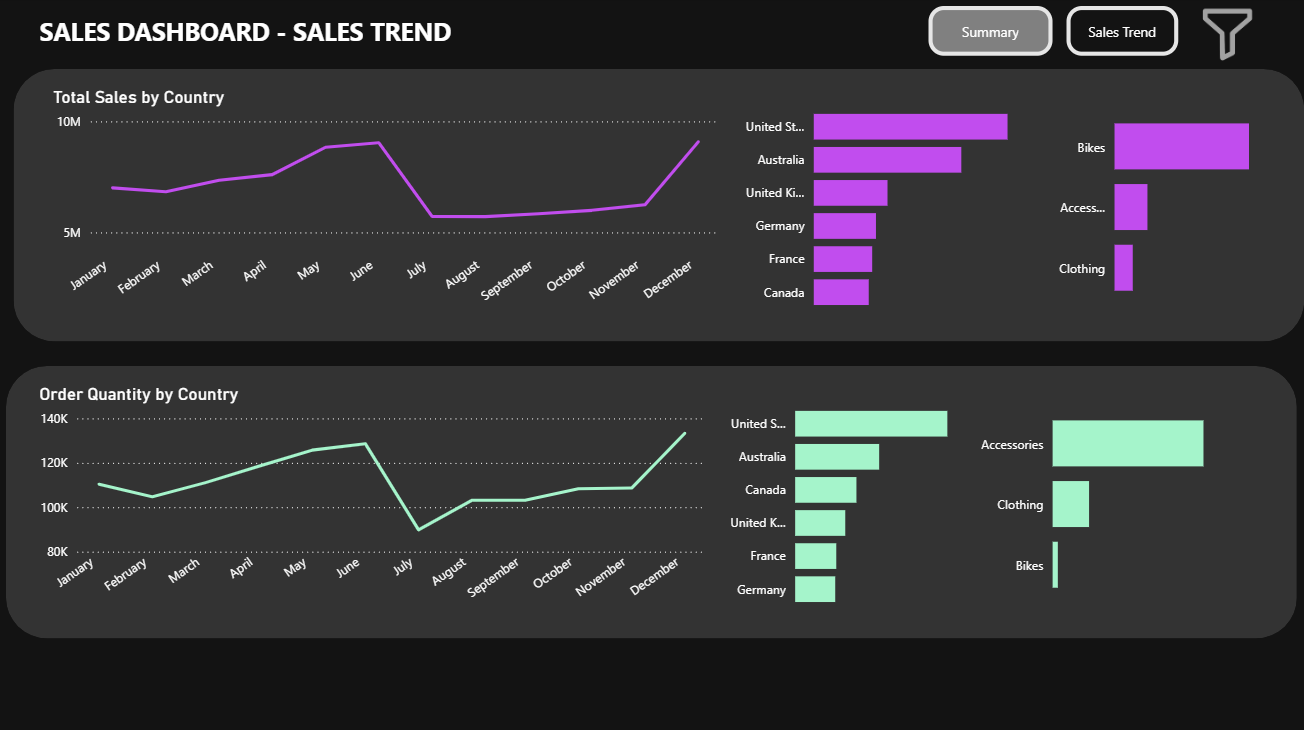

What the dashboard file says about the page in this screenshot:
{"tool":"powerbi","page":{"name":"Sakes Trend","canvas":[1280,720],"ordinal":1},"visuals":[{"type":"shape","box":[9.1,360.4,1262.8,266.5],"z":0},{"type":"shape","box":[16.7,71.2,1262.8,266.5],"z":1000},{"type":"lineChart","title":" Total Sales by Country","fields":{"Y":["Measure.Total Sales"],"Category":["Table1.Date.Variation.Date Hierarchy.Month"]},"box":[50,87.8,661.7,231.7],"z":2000},{"type":"textbox","box":[36.3,12.1,507.3,42.4],"z":3000},{"type":"lineChart","title":"Order Quantity by Country","fields":{"Y":["Sum(Table1.Order_Quantity)"],"Category":["Table1.Date.Variation.Date Hierarchy.Month"]},"box":[36.3,378.6,661.7,231.7],"z":4000},{"type":"barChart","title":" Total Sales by Country","fields":{"Category":["Table1.Country"],"Y":["Measure.Total Sales"]},"box":[711.7,87.8,295.3,231.7],"z":5000},{"type":"barChart","title":" Total Sales by Country","fields":{"Y":["Measure.Total Sales"],"Category":["Table1.Product_Category"]},"box":[1017.5,86.3,251.4,231.7],"z":6000},{"type":"barChart","title":" Total Sales by Country","fields":{"Category":["Table1.Product_Category"],"Y":["Sum(Table1.Order_Quantity)"]},"box":[951.7,376.7,295,231.7],"z":7000},{"type":"barChart","title":" Total Sales by Country","fields":{"Y":["Sum(Table1.Order_Quantity)"],"Category":["Table1.Country"]},"box":[698,378.6,274.1,231.7],"z":8000},{"type":"actionButton","box":[911.6,9.1,121.1,48.5],"z":9000},{"type":"actionButton","box":[1046.3,9.1,109,48.5],"z":10000},{"type":"image","box":[1171.7,0,65,71.7],"z":12000}]}

Visuals, with their boxes in screenshot pixels (x1, y1, x2, y2), scaled from the page's 1280x720 canvas onto the 1304x730 screenshot:
shape: <bbox>9, 365, 1296, 636</bbox>
shape: <bbox>17, 72, 1303, 342</bbox>
" Total Sales by Country" lineChart: <bbox>51, 89, 725, 324</bbox>
textbox: <bbox>37, 12, 554, 55</bbox>
"Order Quantity by Country" lineChart: <bbox>37, 384, 711, 619</bbox>
" Total Sales by Country" barChart: <bbox>725, 89, 1026, 324</bbox>
" Total Sales by Country" barChart: <bbox>1037, 87, 1293, 322</bbox>
" Total Sales by Country" barChart: <bbox>970, 382, 1270, 617</bbox>
" Total Sales by Country" barChart: <bbox>711, 384, 990, 619</bbox>
actionButton: <bbox>929, 9, 1052, 58</bbox>
actionButton: <bbox>1066, 9, 1177, 58</bbox>
image: <bbox>1194, 0, 1260, 73</bbox>
